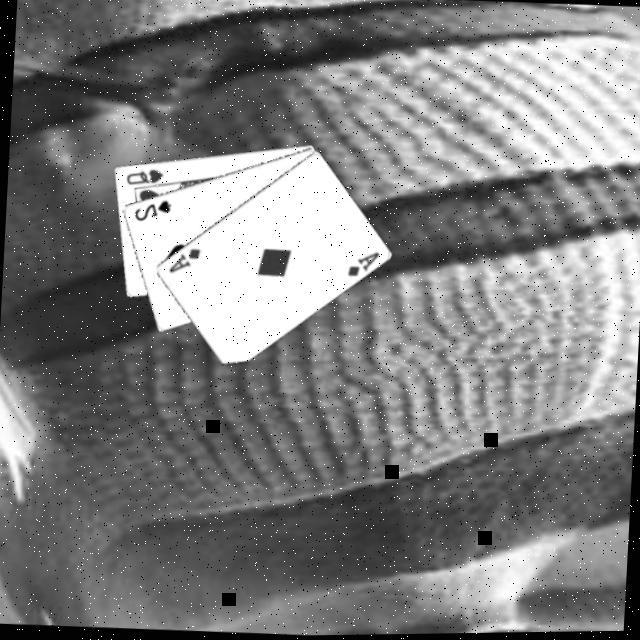2S: (132, 198, 175, 226)
AD: (344, 250, 384, 284), (166, 247, 203, 280)
QH: (124, 166, 166, 192)
